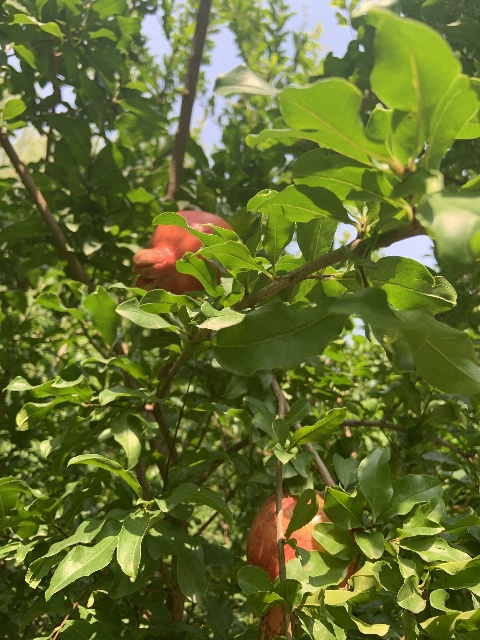ripe: (246, 485, 361, 640), (132, 210, 233, 296)
